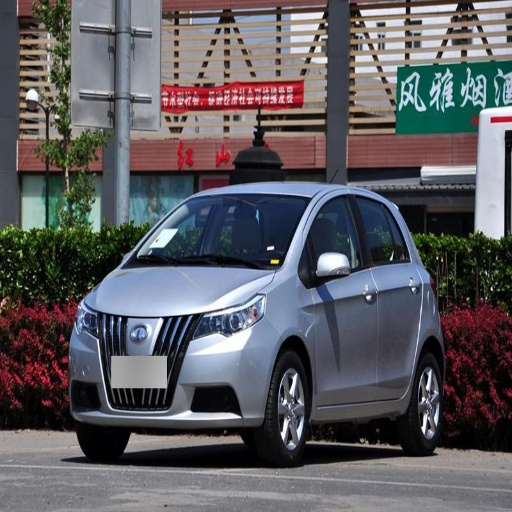front_bumper: (68, 310, 277, 429)
front_glass: (123, 198, 310, 269)
front_left_door: (303, 192, 377, 407)
